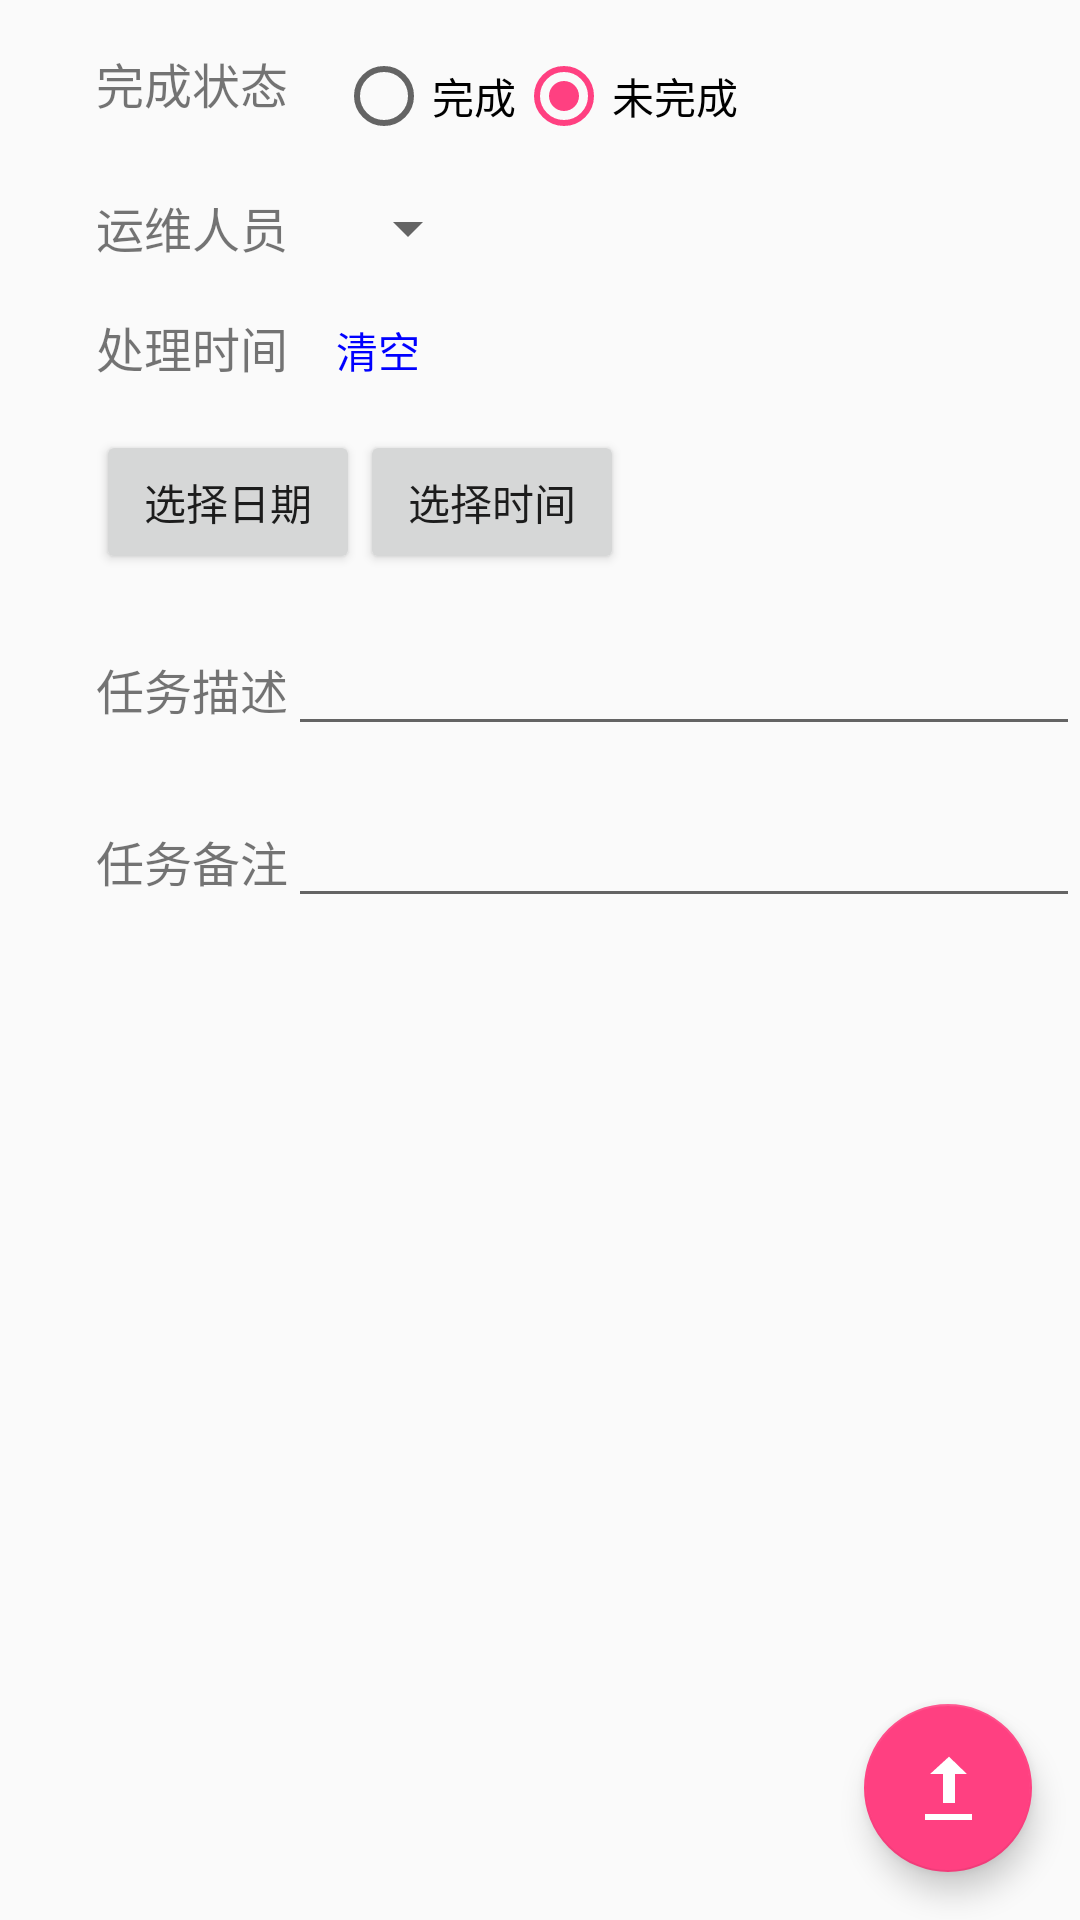

Point at icon controls on the screen. Image size 1080*1920, points as (x=x, y=y).
upload: (x=948, y=1788)
